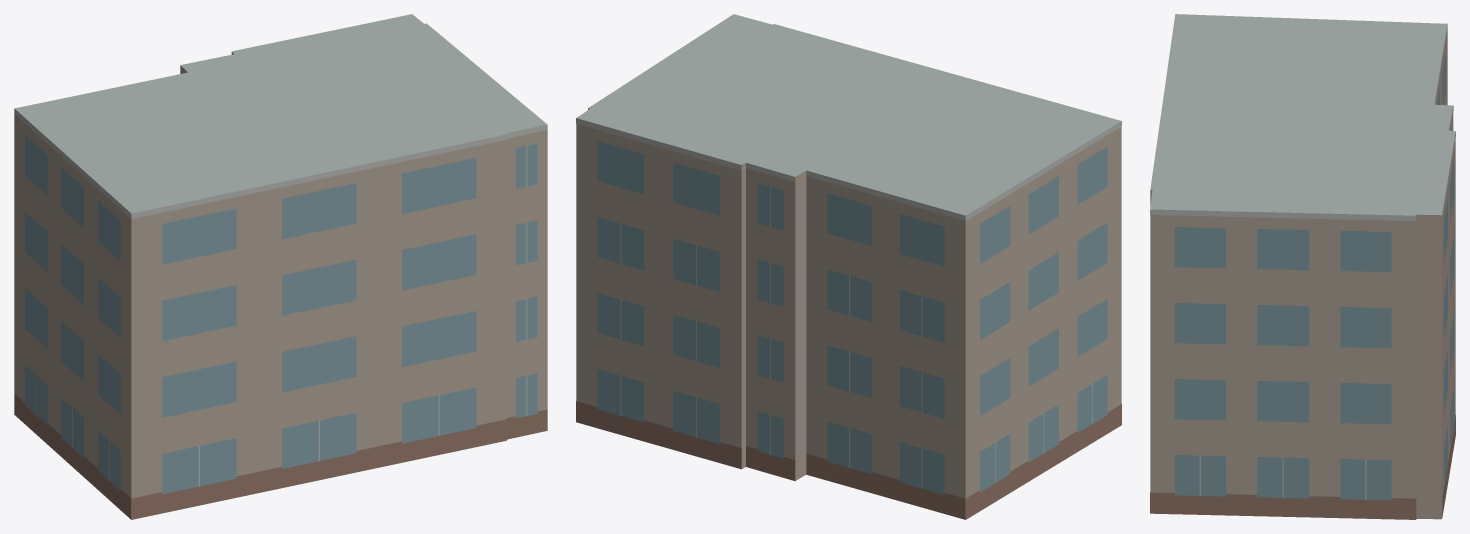
Rendered from survey-upis-32672148.glb.
3 renders of one model, left to right at view 1: azimuth 30°, elevation 25°; view 2: azimuth 150°, elevation 25°; view 3: azimuth 270°, elevation 25°, orthographic.
Visible parts, largest first — view 1: survey-upis-32672148.tmp; view 2: survey-upis-32672148.tmp; view 3: survey-upis-32672148.tmp.
Boxes of the visible parts, left/top/right/bottom form: survey-upis-32672148.tmp: left=14, top=14, right=547, bottom=519; survey-upis-32672148.tmp: left=576, top=14, right=1121, bottom=519; survey-upis-32672148.tmp: left=1150, top=14, right=1455, bottom=519.
Size of the model in its own units: 19.27 by 13.54 by 12.34.
